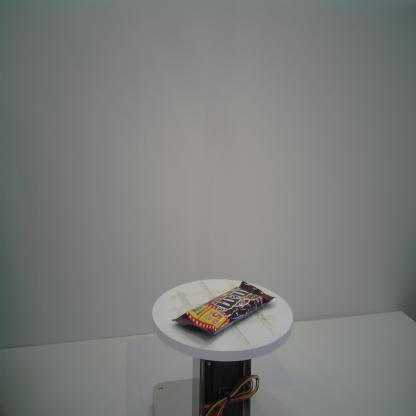Chocolate: (169, 280, 276, 338)
